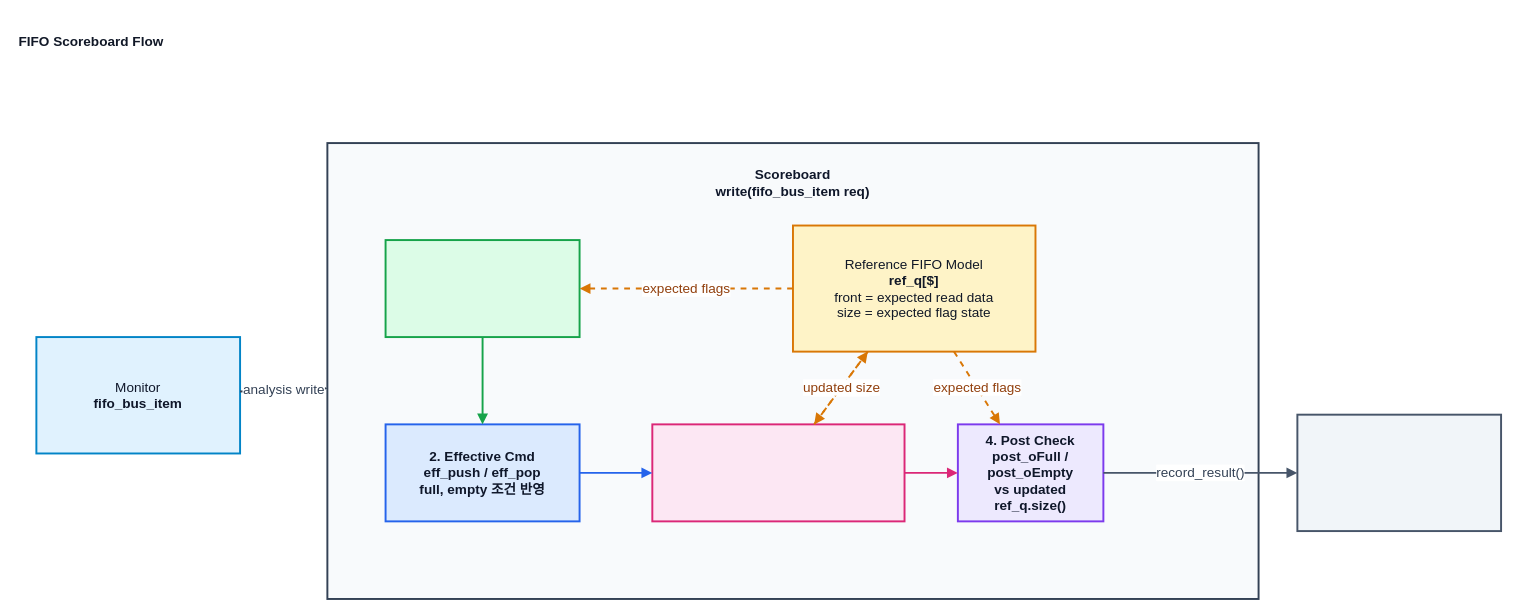
This 1518x616 diagram has some shape labels left out. Each missing label, with the box of its shape:
1. Pre Check pre_oFull / pre_oEmpty vs ref_q.size(): (384, 239, 580, 338)
3. Data / Queue Update pop: pre_oRdDt == ref_q[0] pop_front(), push_back(iWrDt): (651, 423, 905, 522)
Result sequence별 PASS / FAIL / TOTAL: (1296, 413, 1502, 532)
